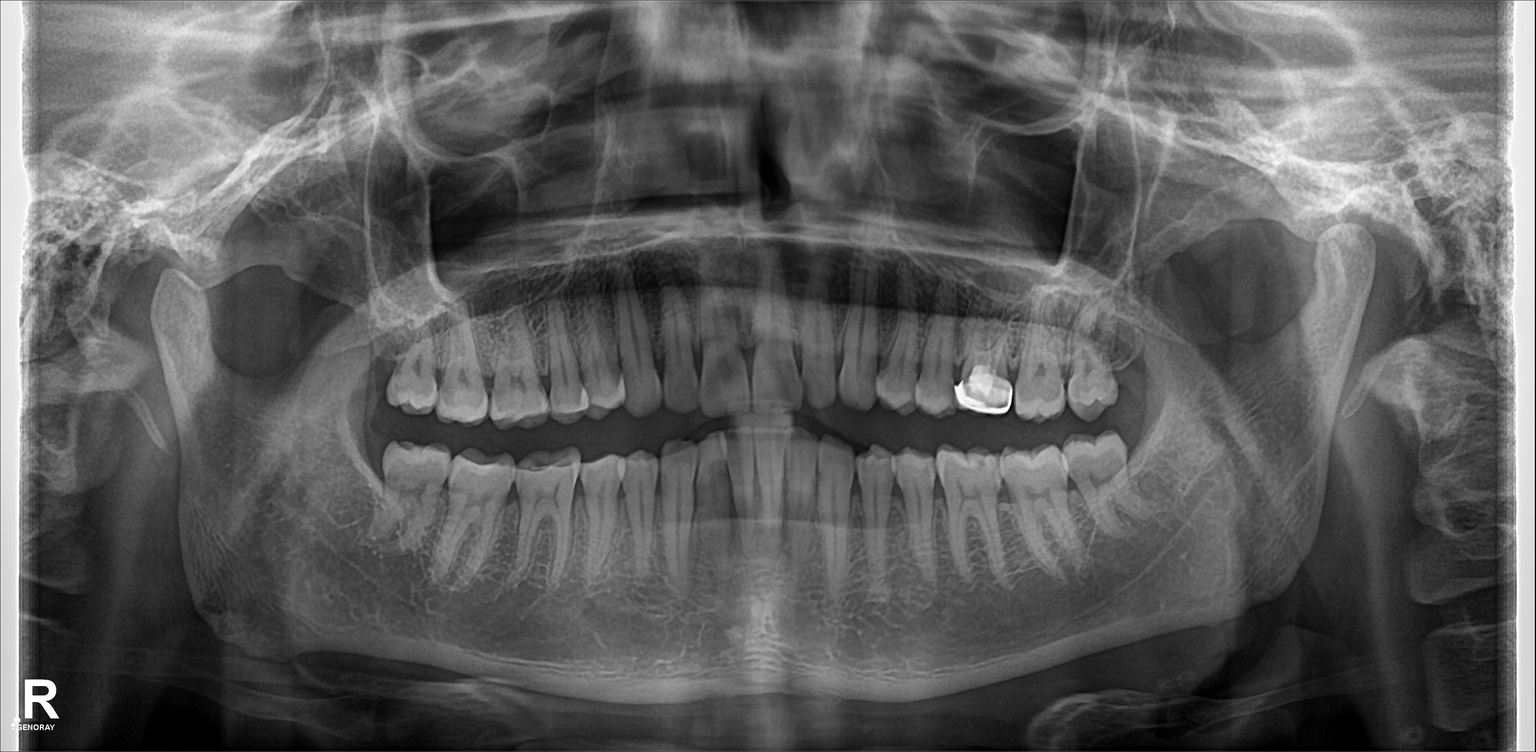Endodontically Treated Tooth: (967, 322, 1015, 410)
Missing Tooth: (1109, 328, 1149, 404), (358, 324, 393, 408)
